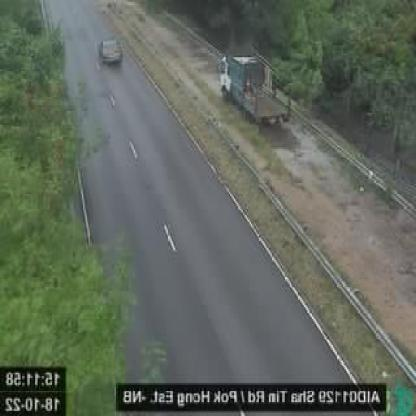Car: (97, 36, 123, 66)
Truck: (217, 51, 294, 129)
